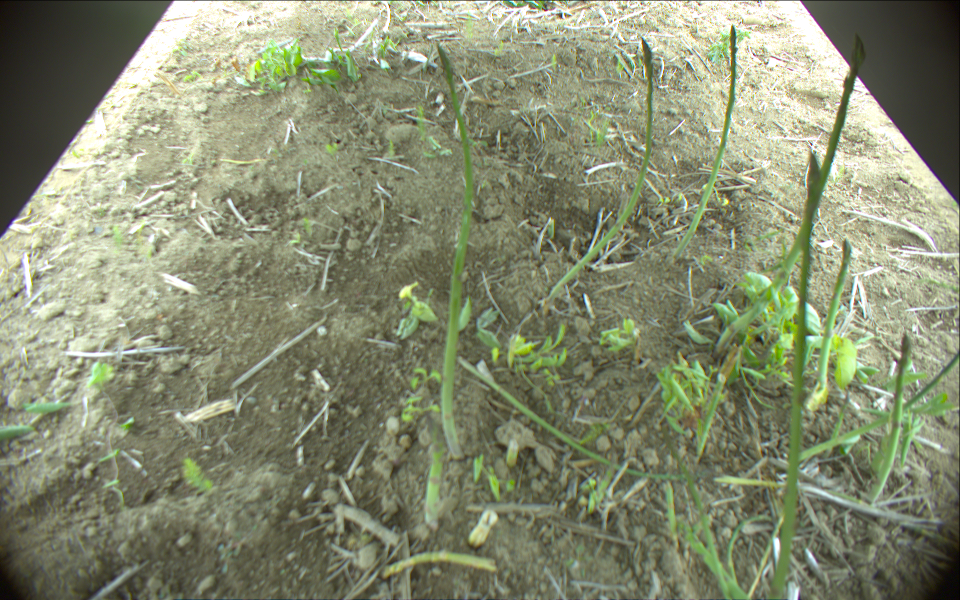aspa: (717, 32, 865, 354), (545, 34, 654, 309), (461, 359, 687, 484), (770, 151, 820, 600), (799, 347, 960, 463), (436, 42, 473, 459), (671, 24, 737, 256), (873, 335, 912, 500), (815, 237, 853, 387), (383, 551, 499, 582), (694, 377, 723, 453), (426, 449, 440, 529), (665, 481, 679, 539), (510, 442, 520, 464)
